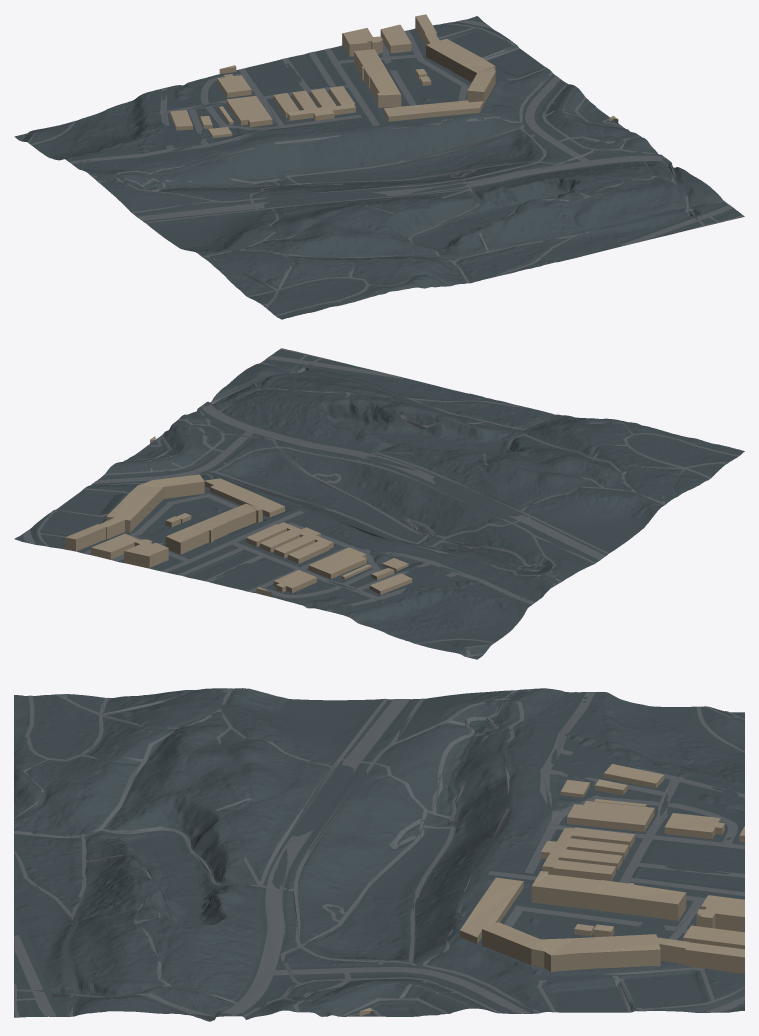
File: epsg26910-1425-10886.lod0.glb
The picture shows the model from 3 angles, top to bottom: view 1: azimuth 30°, elevation 25°; view 2: azimuth 150°, elevation 25°; view 3: azimuth 270°, elevation 25°; orthographic projection. The views are drawn at different scales.
Parts seen in each view (by area): view 1: epsg26910-1425-10886-lod0; view 2: epsg26910-1425-10886-lod0; view 3: epsg26910-1425-10886-lod0.
Boxes of the visible parts, left/top/right/bottom form: epsg26910-1425-10886-lod0: left=14, top=14, right=744, bottom=319; epsg26910-1425-10886-lod0: left=14, top=348, right=744, bottom=659; epsg26910-1425-10886-lod0: left=14, top=688, right=744, bottom=1021.
Bounding box in the file's own units: 384 × 23.84 × 384.
